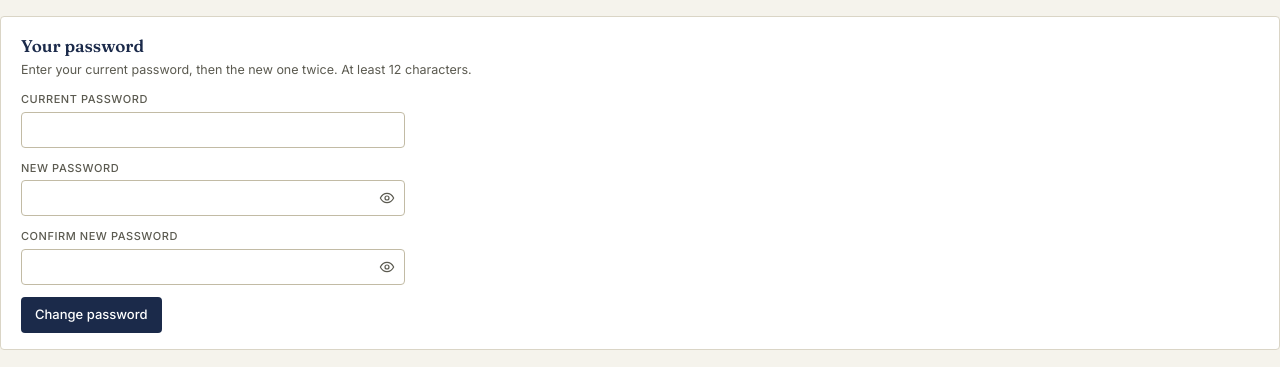
Test: PasswordForm › hides both new passwords again once the change is saved
Type "old-password-123" into the password field labelled "Current password" at [213, 130], box left=21, top=112, right=405, bottom=148
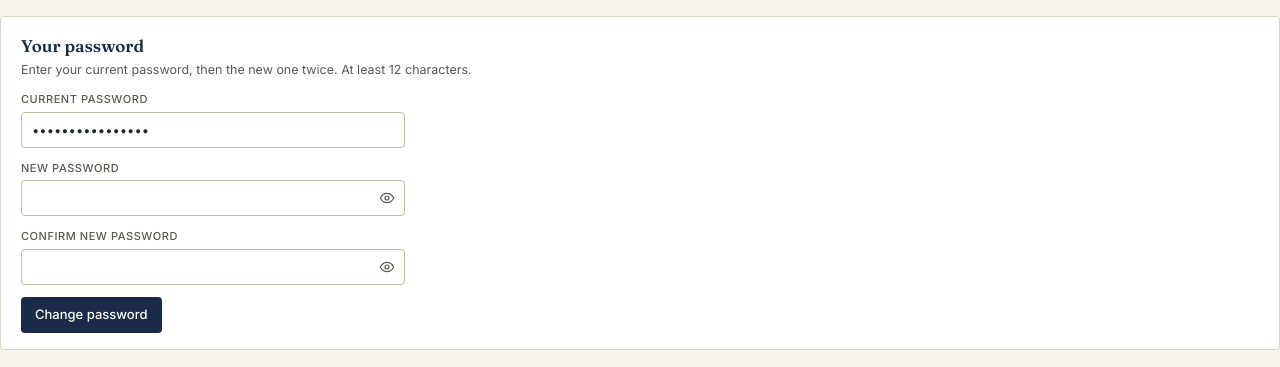
Type "new-password-4567" into the password field labelled "New password" at [213, 198], box left=21, top=180, right=405, bottom=216
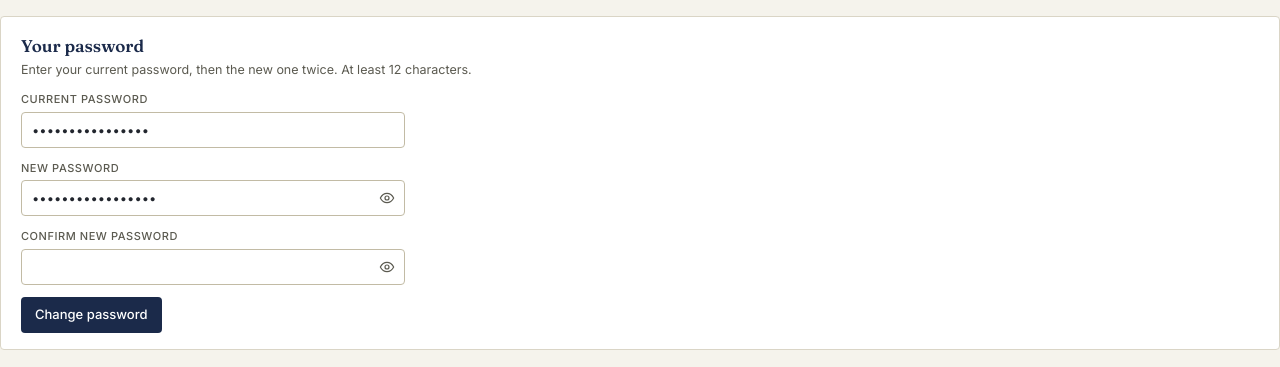
Type "new-password-4567" into the password field labelled "Confirm new password" at [213, 267], box left=21, top=249, right=405, bottom=285
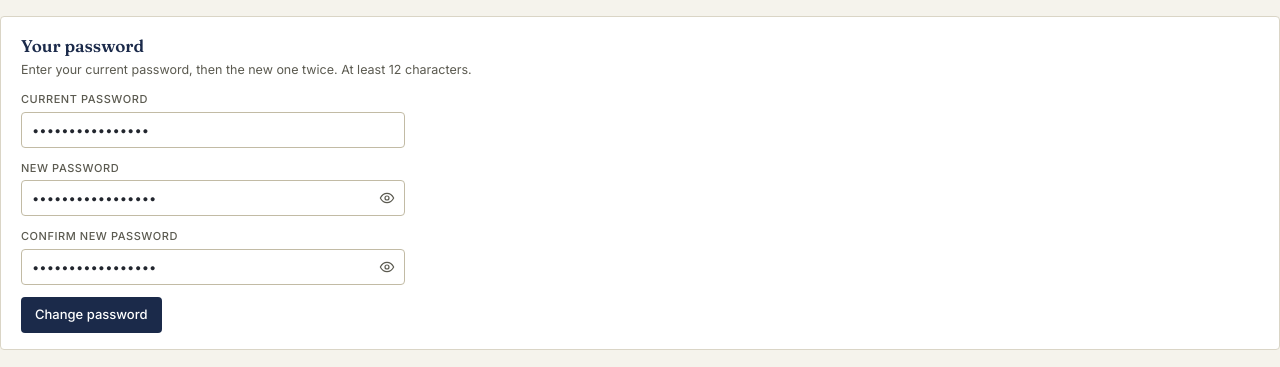
Click the button named "Show new password" at [387, 198], box left=369, top=180, right=405, bottom=216
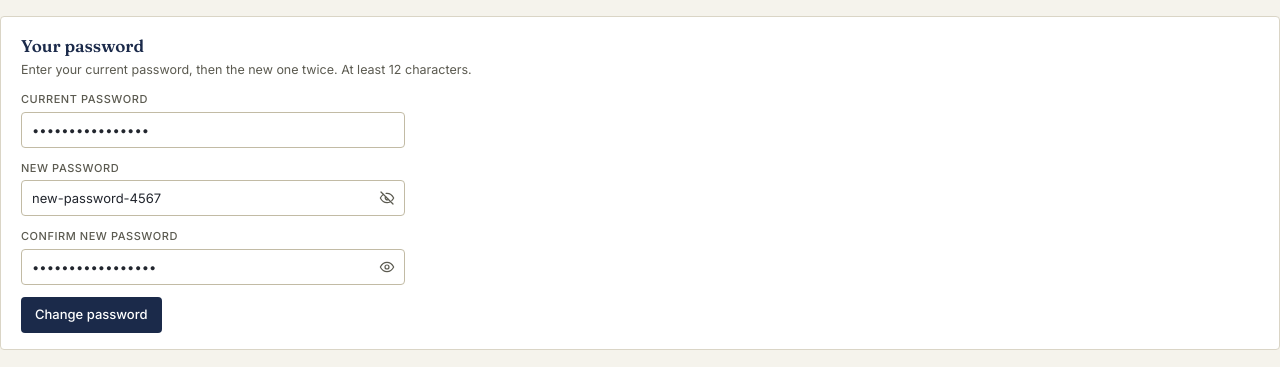
Click the button named "Show confirmed password" at [387, 267], box left=369, top=249, right=405, bottom=285
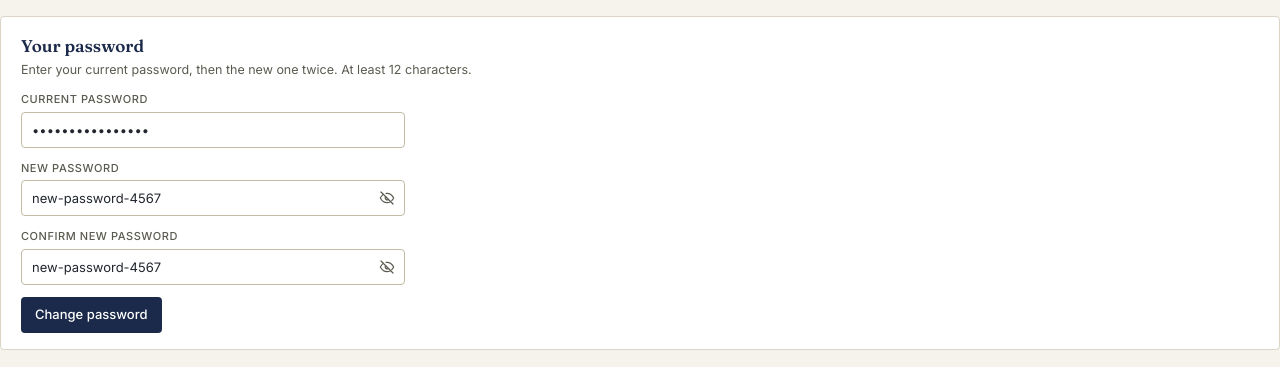
Click the button "Change password" at [91, 315], box left=21, top=297, right=162, bottom=333
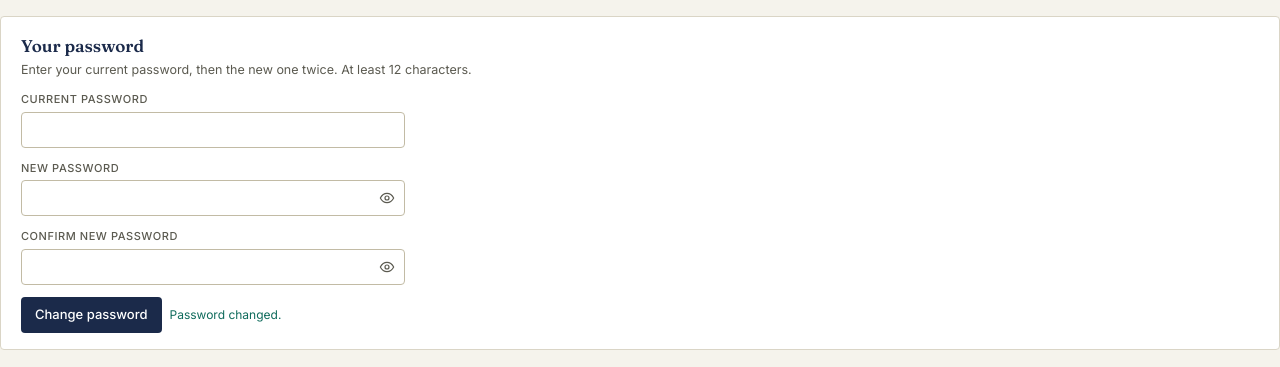
Result: the message "Password changed." is shown at left=170, top=306, right=281, bottom=324
